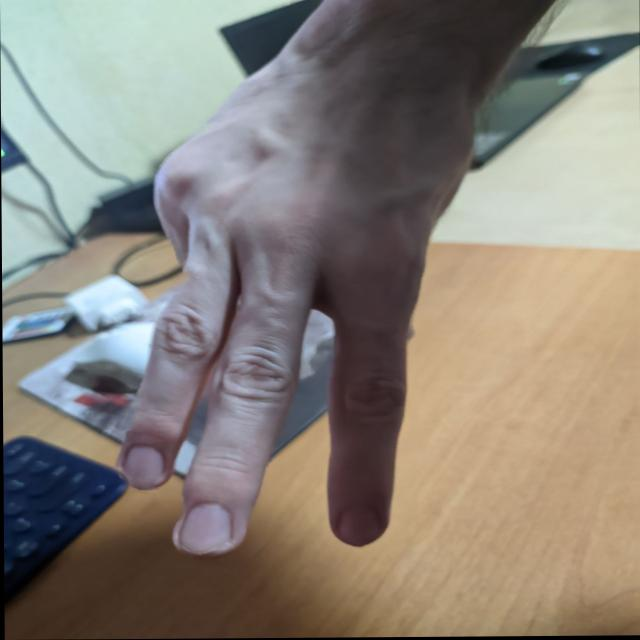m: (96, 72, 469, 562)
